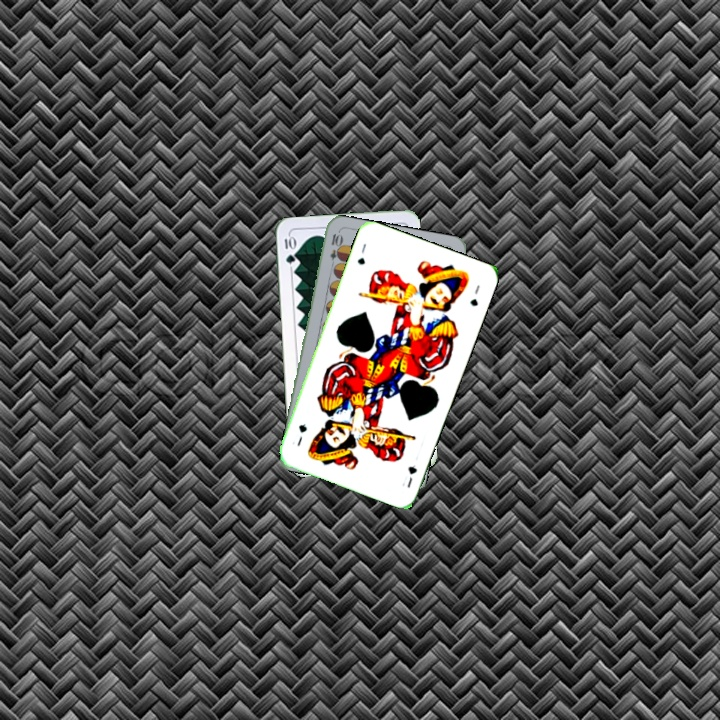E10: (326, 230, 343, 270)
G10: (280, 232, 297, 266)
GU: (403, 461, 420, 490), (353, 239, 369, 267)
